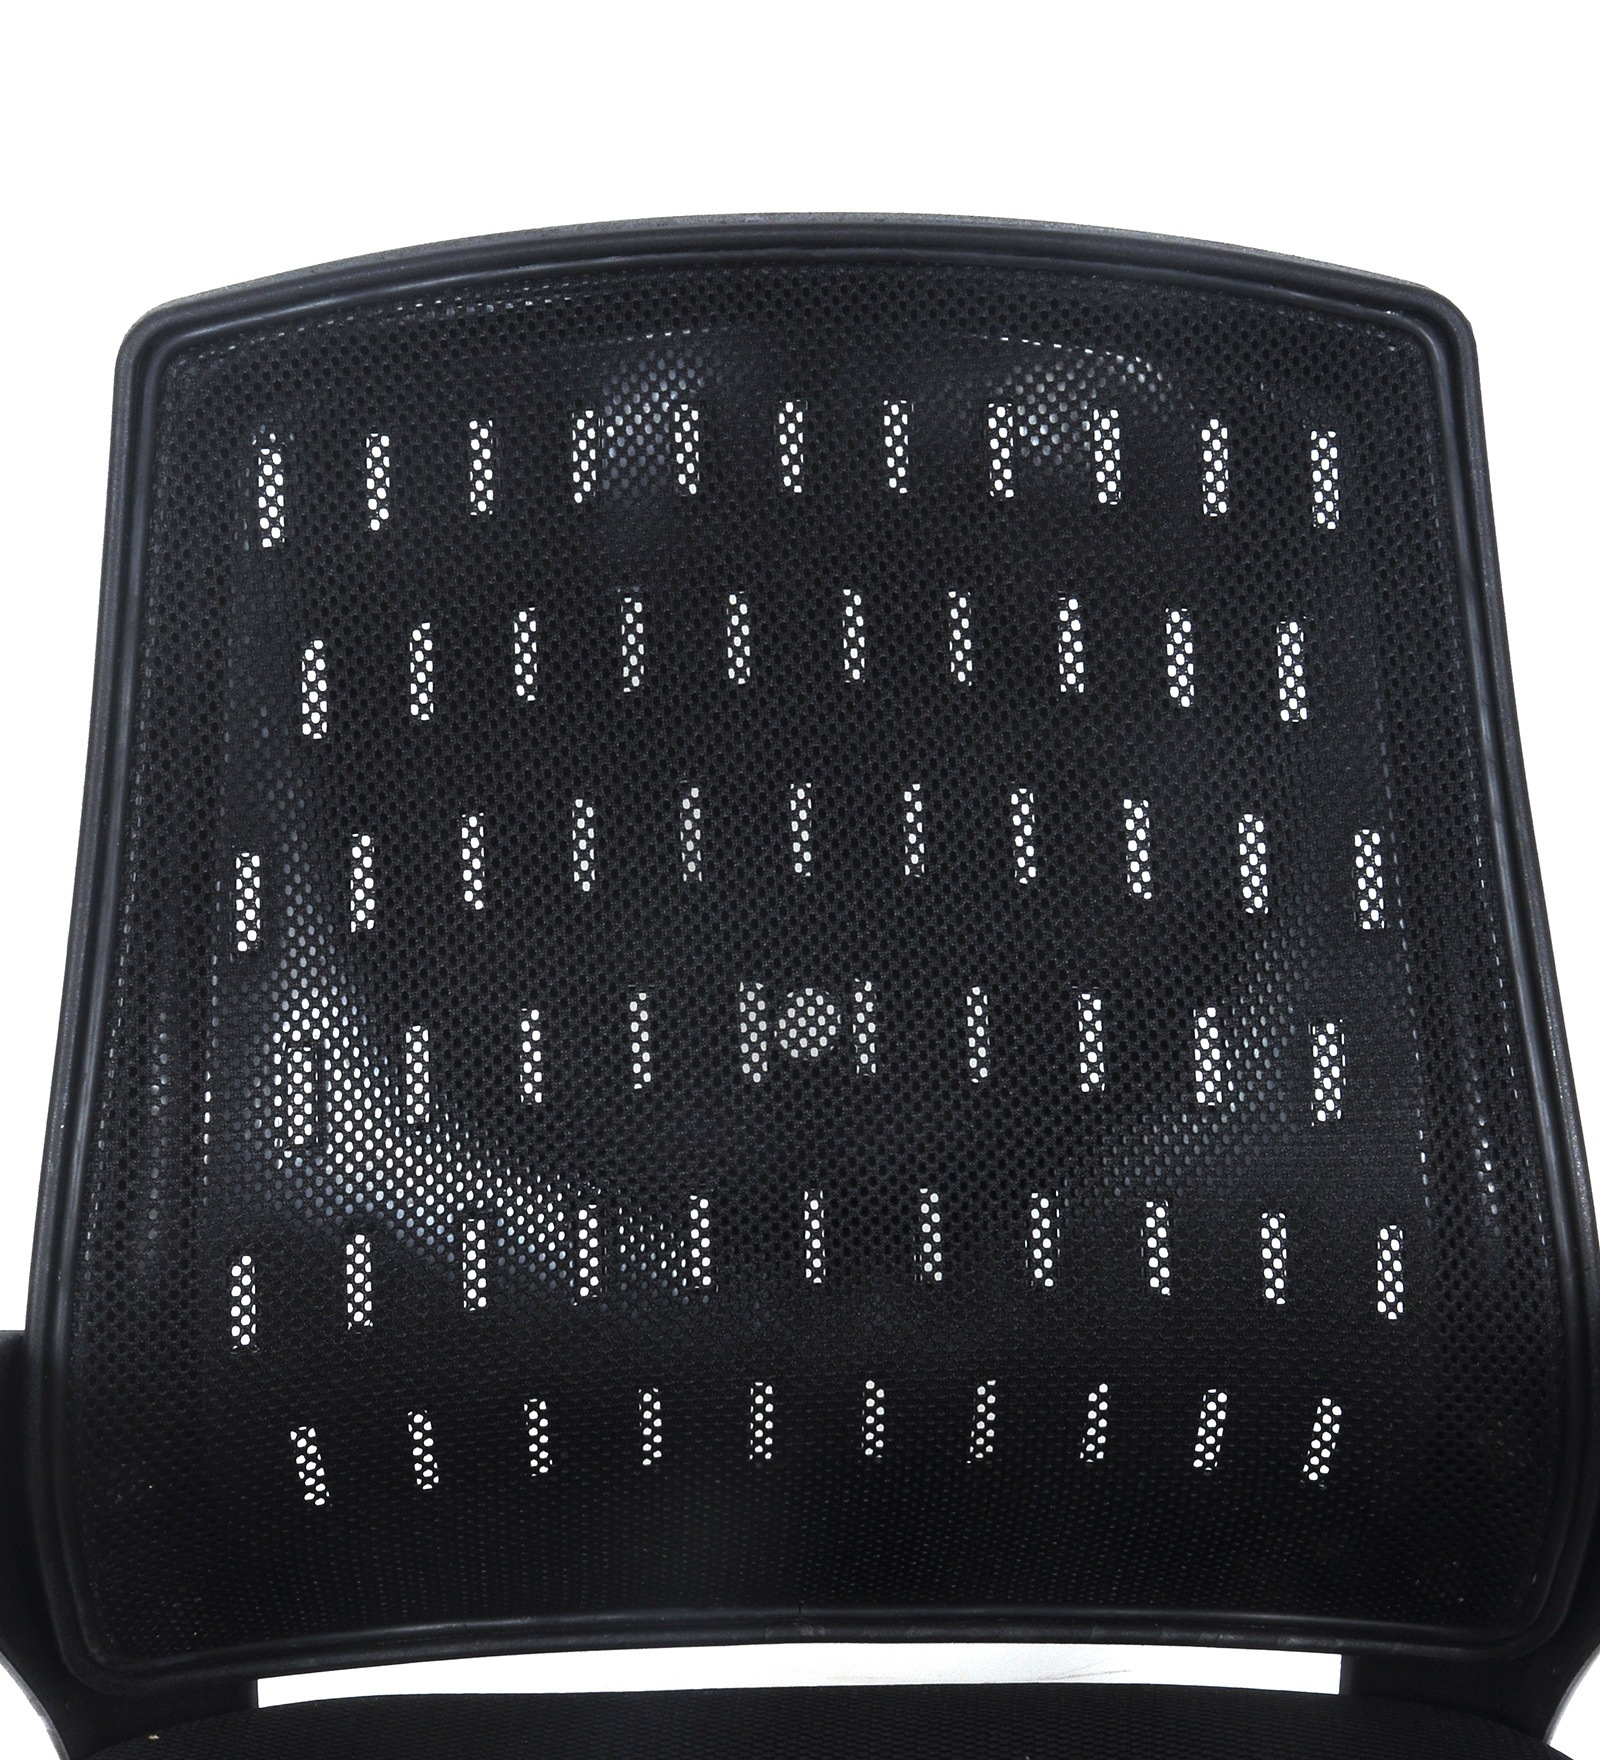Briny Mid Back Ergonomic Chair By Furniease: (34, 189, 1600, 1757)
